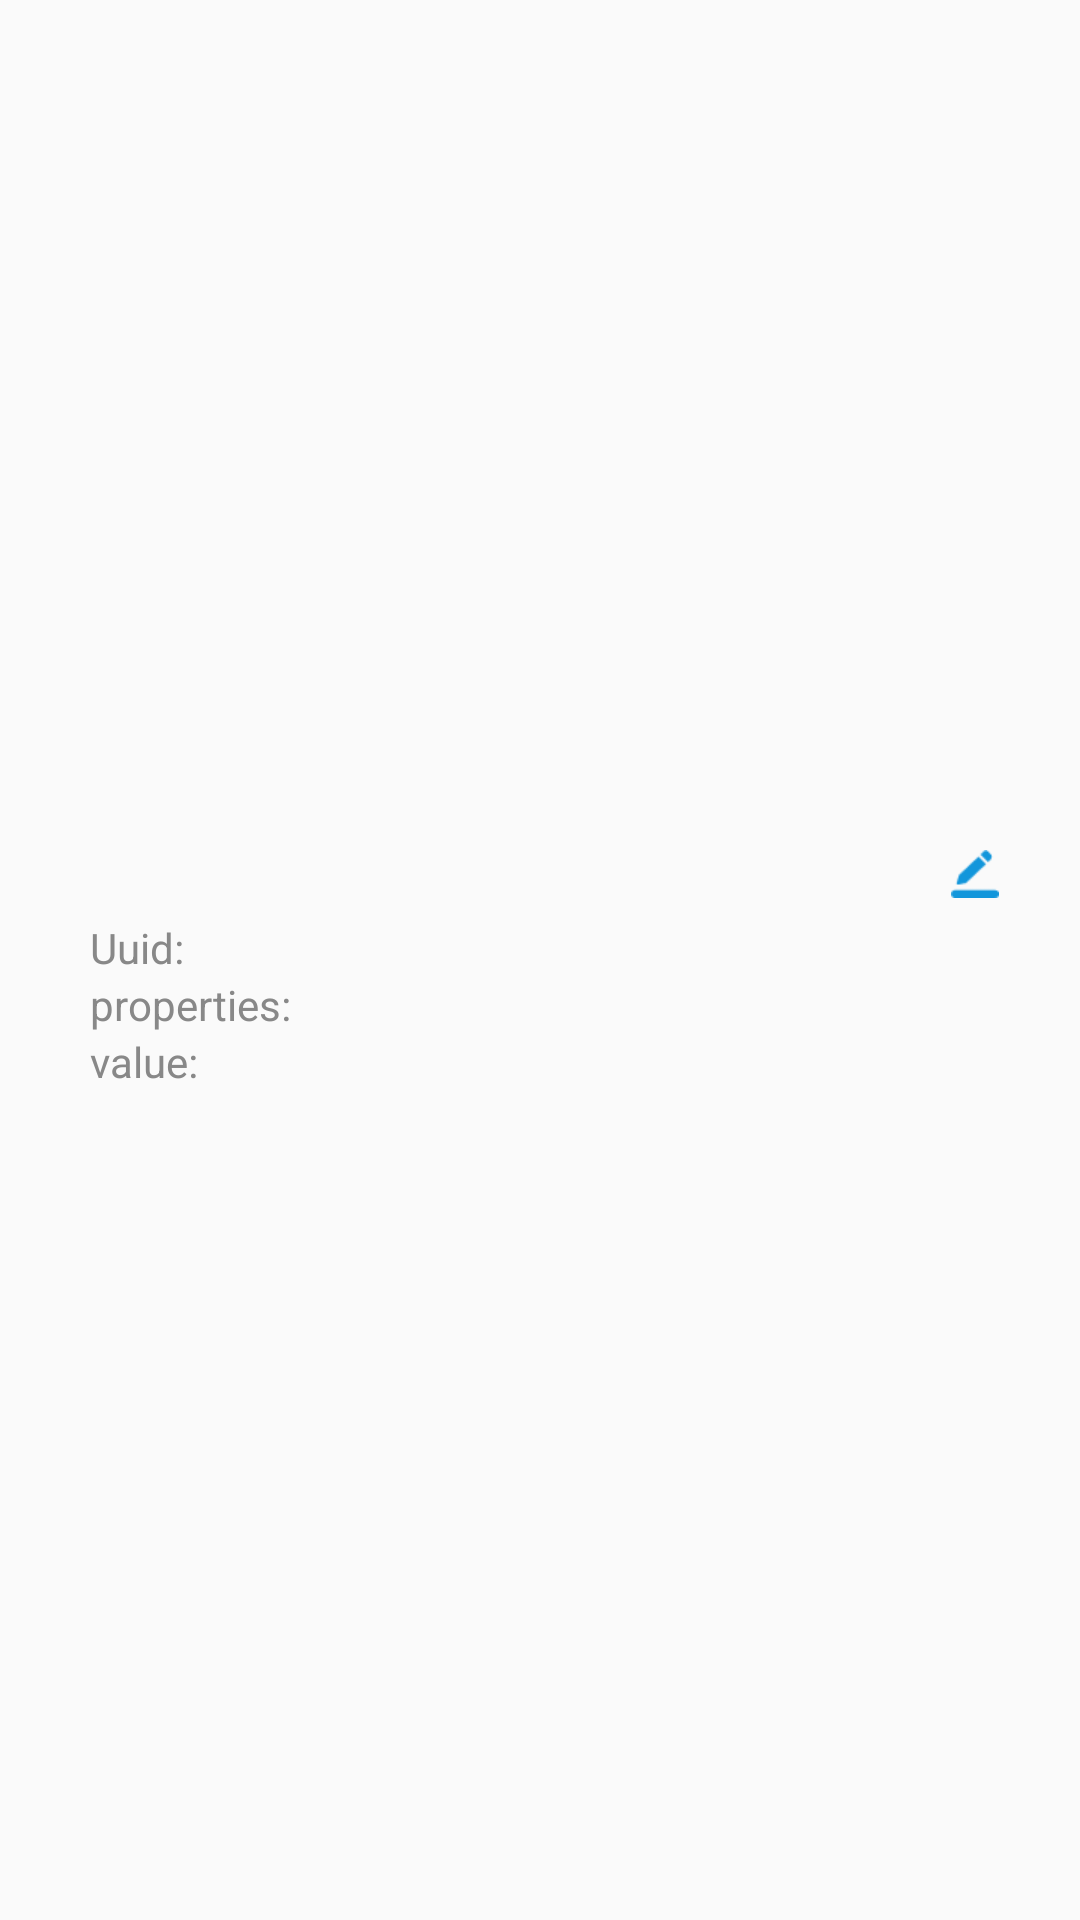

Where icons sit on this 1080 x 1920 app screen, as (x1, y1, x2, y2):
write: (951, 850, 999, 898)
